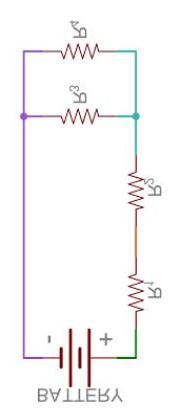resistor: (114, 253, 146, 325), (54, 32, 111, 68), (121, 162, 143, 216), (53, 103, 106, 125)
